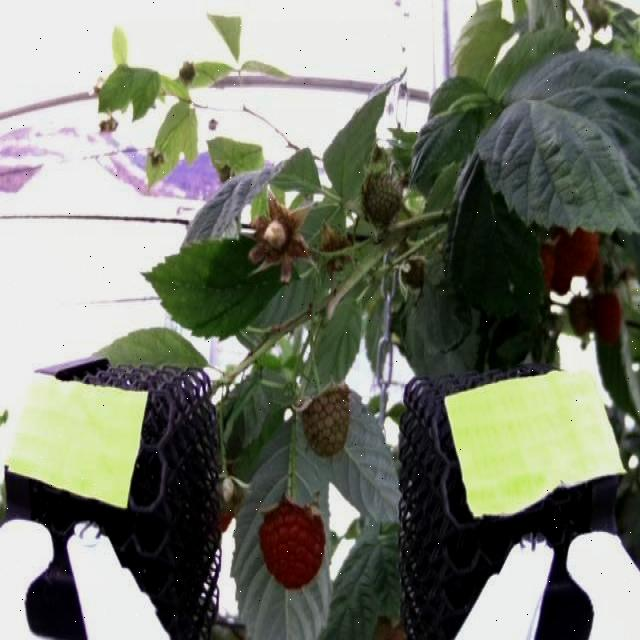Riped berries: (257, 499, 333, 590), (537, 227, 569, 295), (590, 292, 626, 349), (570, 227, 602, 275)
